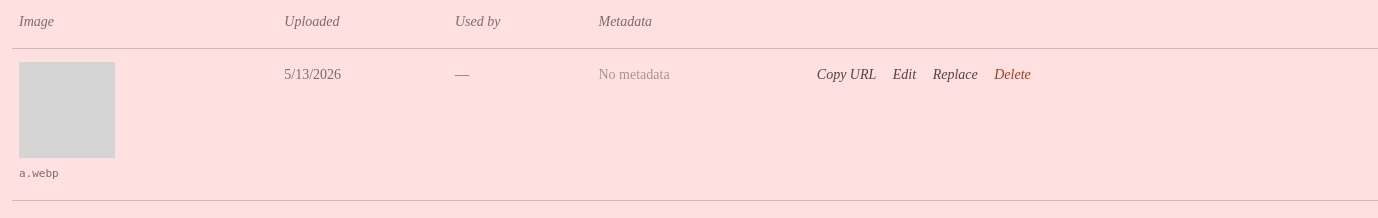
it: ImagesTable › Delete (unreferenced): confirm + DELETE removes the row
Step 1. Click the button "Delete" → coordinates (1012, 75), box [994,62,1031,88]
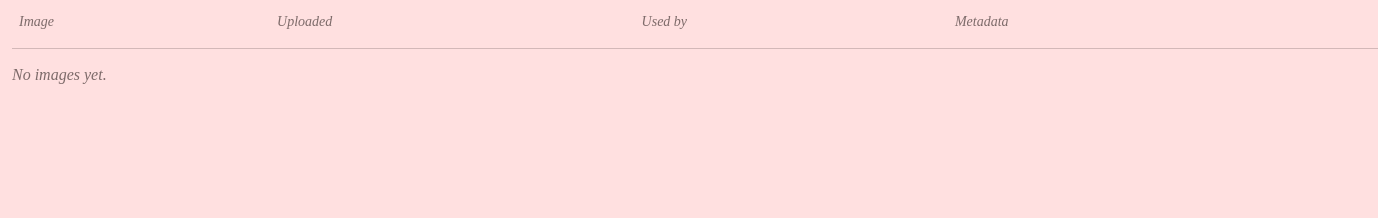
Expected: the picture with class "thumb" is gone
